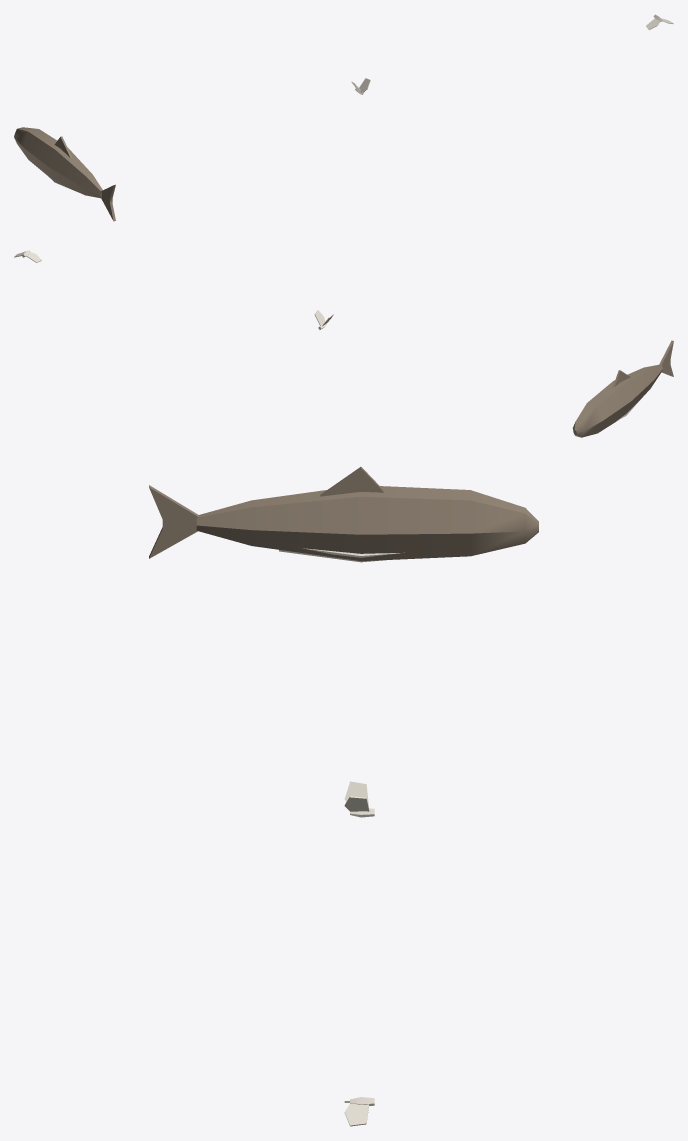
The model's file is fish.glb.
The picture shows the model from 3 angles, top to bottom: view 1: azimuth 30°, elevation 25°; view 2: azimuth 150°, elevation 25°; view 3: azimuth 270°, elevation 25°; orthographic projection. The views are drawn at different scales.
Visible parts, largest first — view 1: fish; view 2: fish; view 3: fish.
Part boxes in pixels (x1,y1,x2,y2): fish: (14,127,115,221); fish: (572,340,673,437); fish: (149,467,538,562).
Size of the model in its own units: 1.04 by 0.0745 by 0.285.
